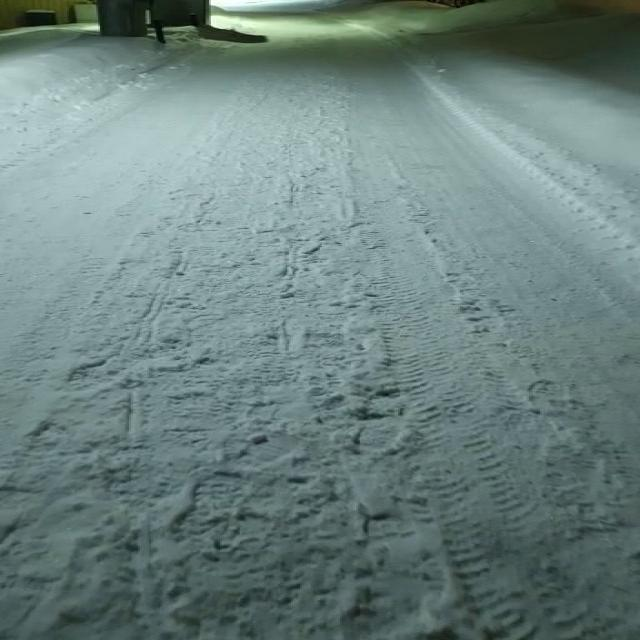path: (0, 2, 640, 640)
